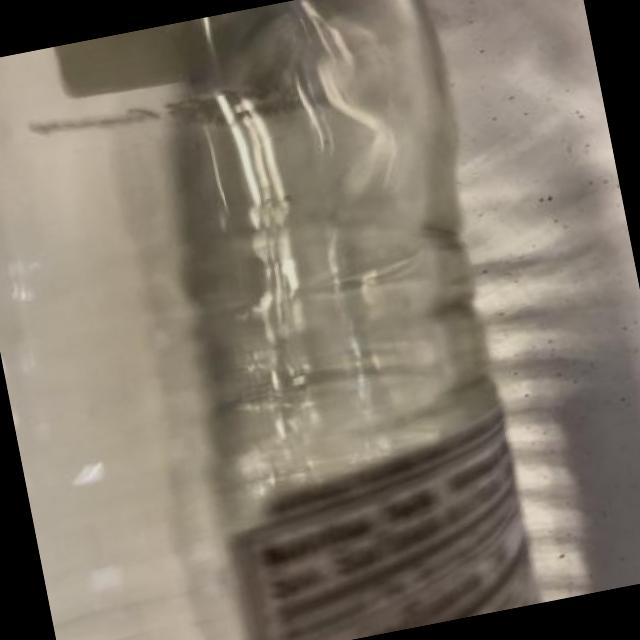bottle: (0, 0, 532, 639)
plastic: (0, 0, 498, 639)
